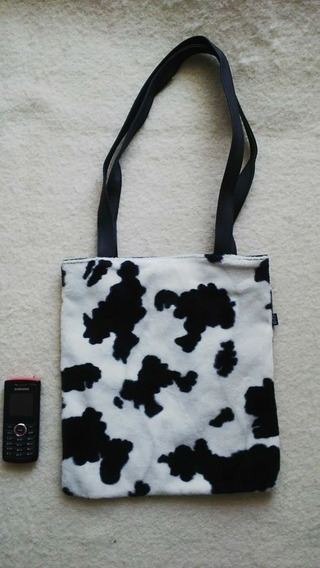cartera: (57, 34, 281, 503)
